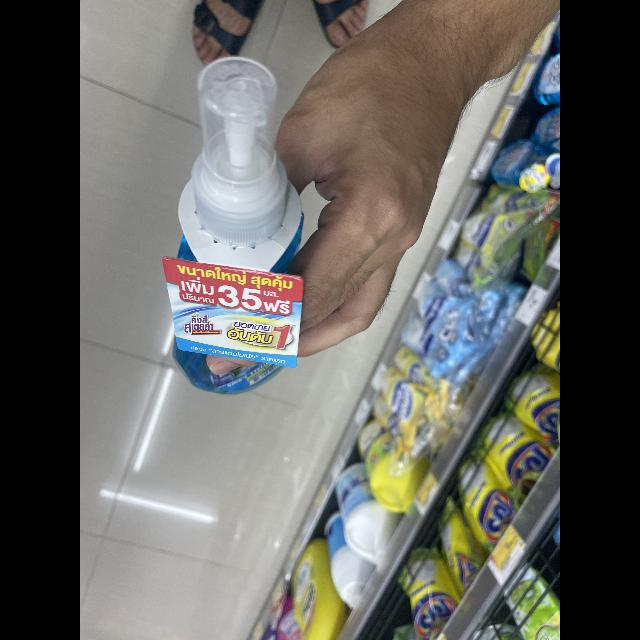chemical_plastic_bottle: (162, 50, 310, 400)
